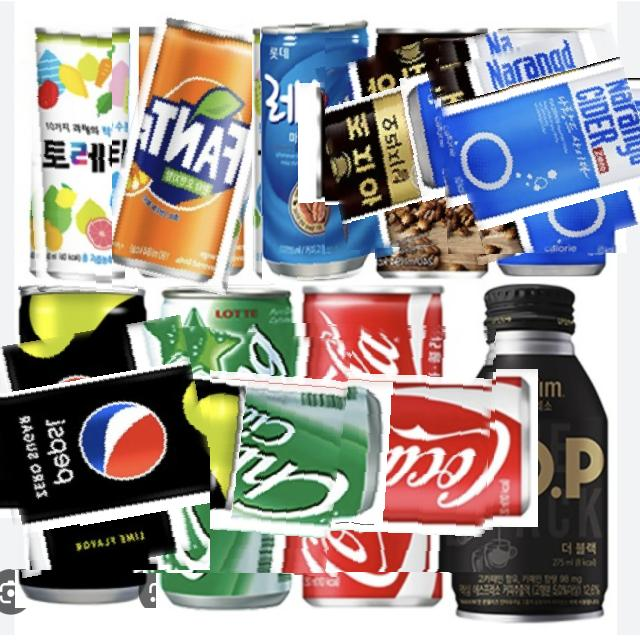recyclable: (246, 323, 495, 572), (102, 324, 350, 573), (0, 323, 210, 570), (325, 38, 540, 253), (112, 8, 275, 289), (438, 32, 640, 254), (252, 13, 375, 283), (19, 13, 138, 292)
